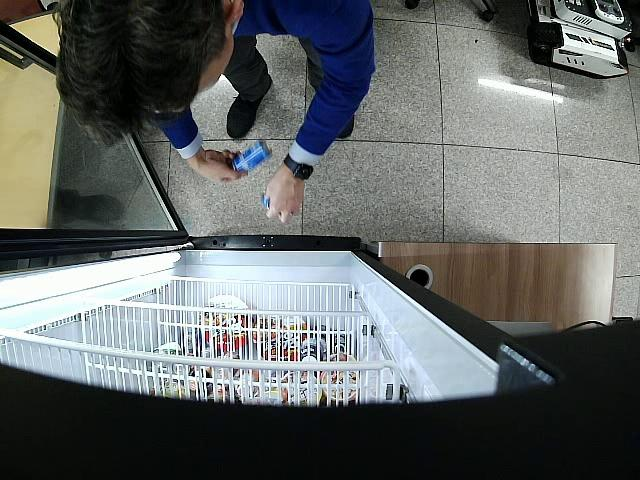00_hand: (265, 177, 305, 224), (199, 146, 248, 184)
15_letsbe: (233, 138, 272, 174)
